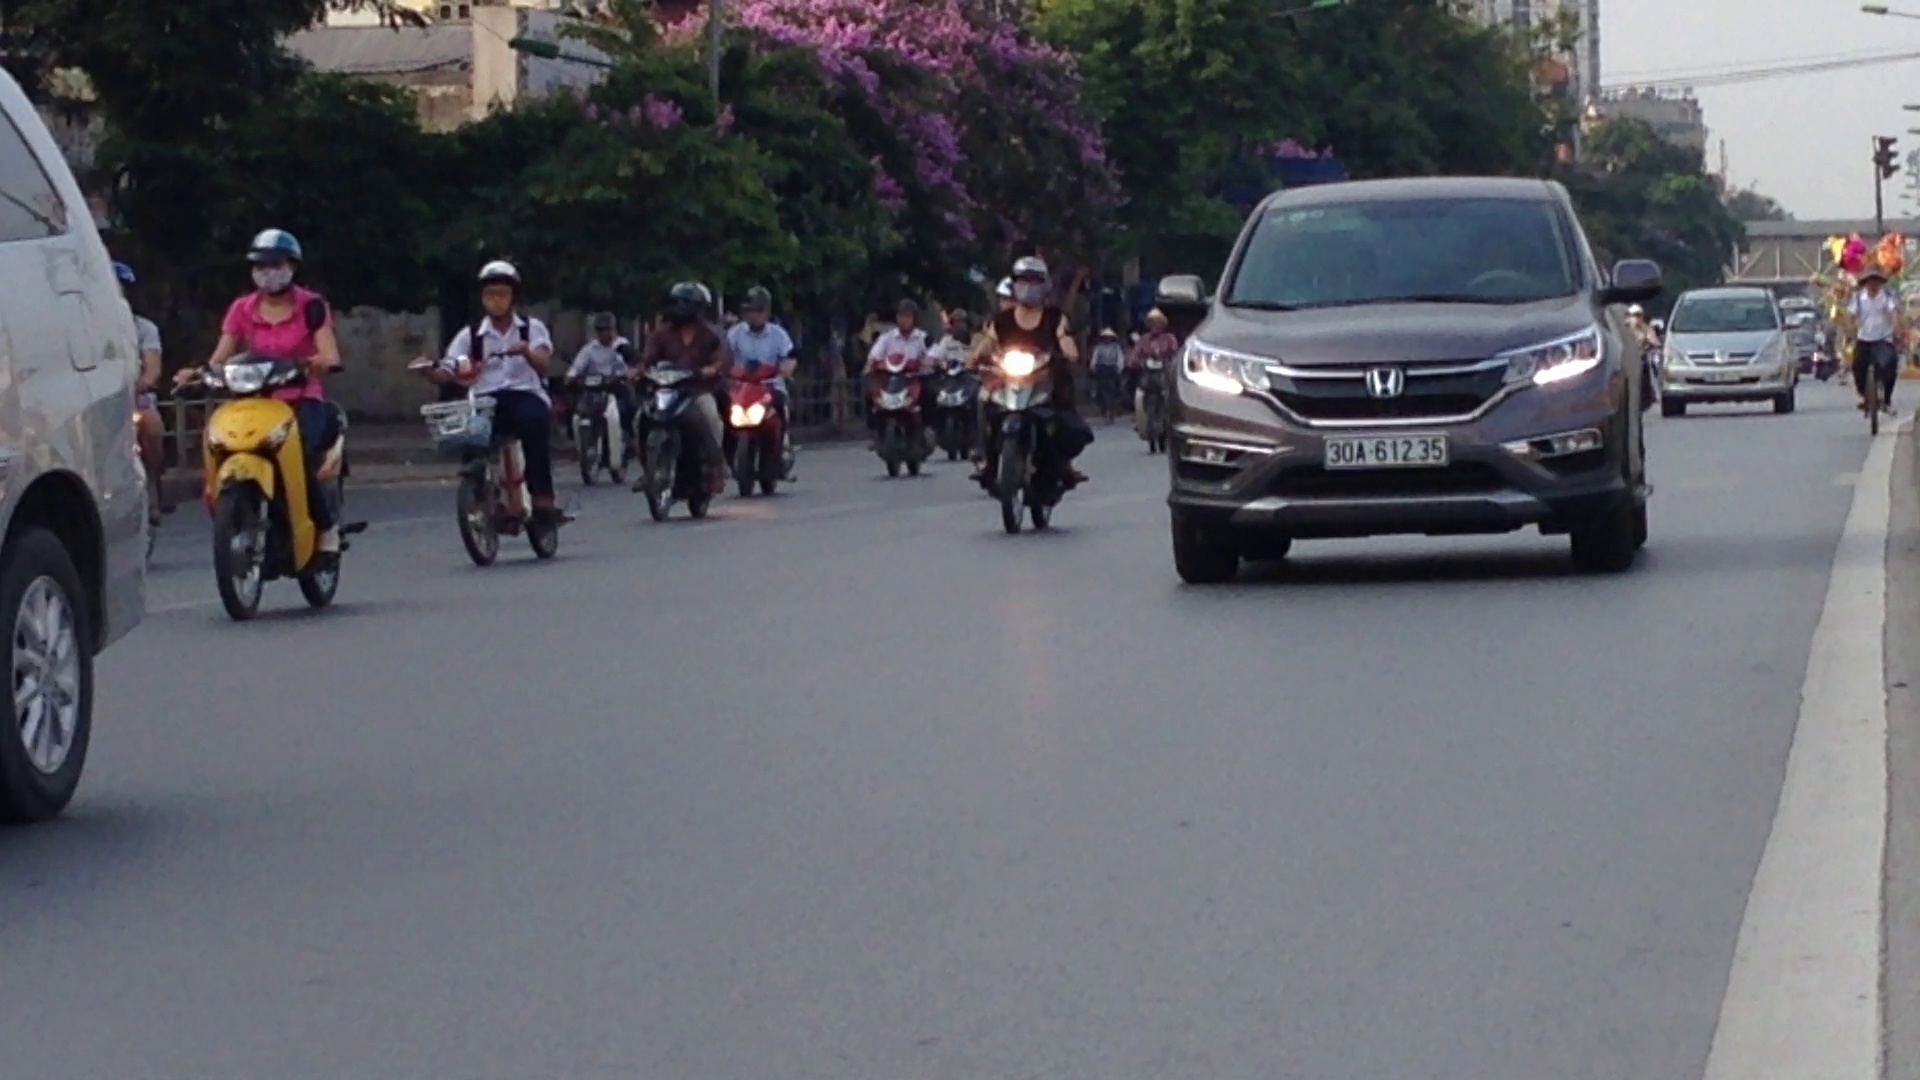person: (1317, 427, 1452, 470)
